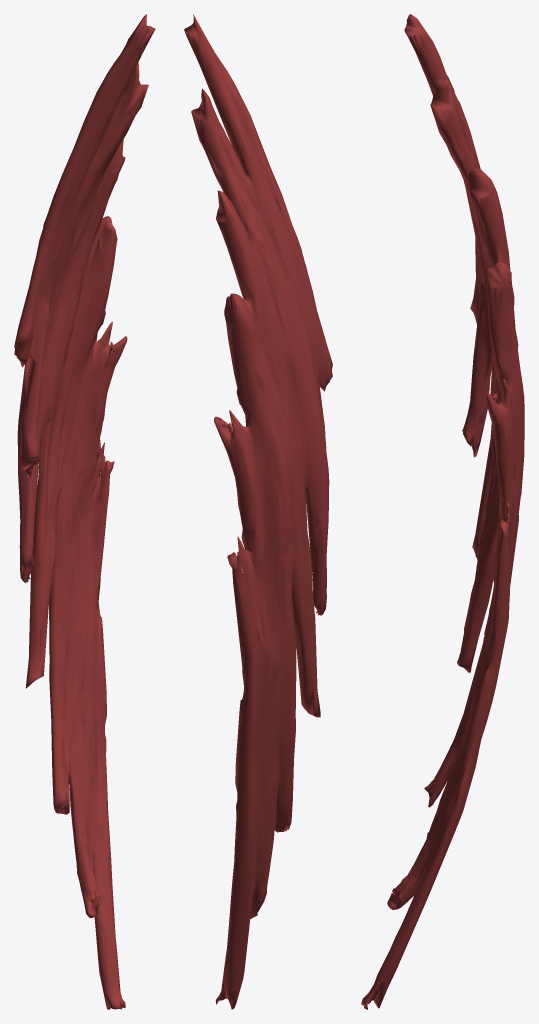
File: semispinalis-thoracis-muscle-r.glb
3 renders of one model, left to right at view 1: azimuth 30°, elevation 25°; view 2: azimuth 210°, elevation 25°; view 3: azimuth 270°, elevation 25°, orthographic. The views are drawn at different scales.
Parts seen in each view (by area): view 1: Semispinalis thoracis muscle.r; view 2: Semispinalis thoracis muscle.r; view 3: Semispinalis thoracis muscle.r.
Boxes of the visible parts, bbox=[...] form: Semispinalis thoracis muscle.r: bbox=[14, 14, 155, 1009]; Semispinalis thoracis muscle.r: bbox=[184, 14, 332, 1009]; Semispinalis thoracis muscle.r: bbox=[361, 14, 524, 1009].
Size of the model in its own units: 0.0354 by 0.2813 by 0.0408.
